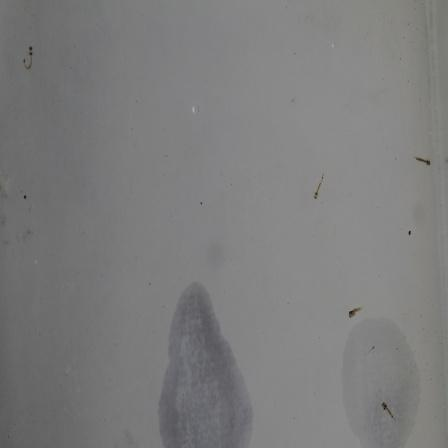Jentik-Nyamuk: (19, 43, 41, 74), (309, 171, 328, 203), (378, 399, 399, 425), (412, 151, 432, 175), (344, 303, 366, 324)
